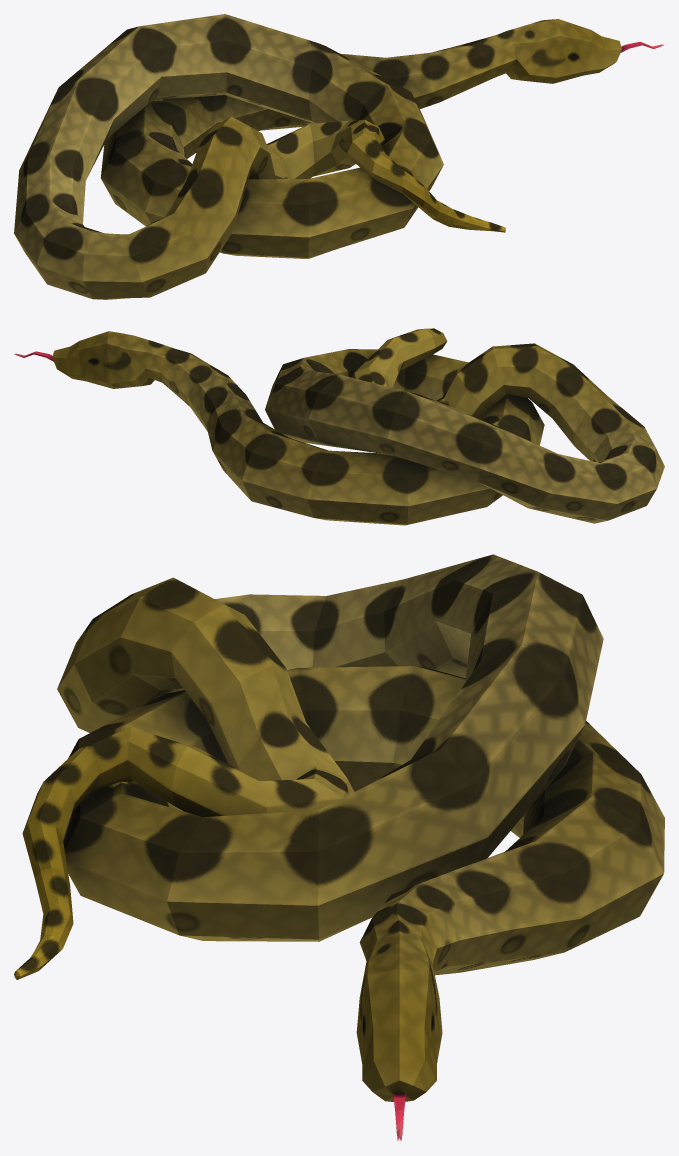
File: Anaconda.obj
The picture shows the model from 3 angles, top to bottom: view 1: azimuth 30°, elevation 25°; view 2: azimuth 150°, elevation 25°; view 3: azimuth 270°, elevation 25°; orthographic projection. The views are drawn at different scales.
Parts seen in each view (by area): view 1: Anaconda_mesh; view 2: Anaconda_mesh; view 3: Anaconda_mesh.
Boxes of the visible parts, x1=… form: Anaconda_mesh: x1=14, y1=14, x2=663, y2=299; Anaconda_mesh: x1=14, y1=328, x2=664, y2=525; Anaconda_mesh: x1=14, y1=554, x2=664, y2=1140.
Bounding box in the file's own units: 19.65 × 4.45 × 9.84.
1 material, 1 textured.
